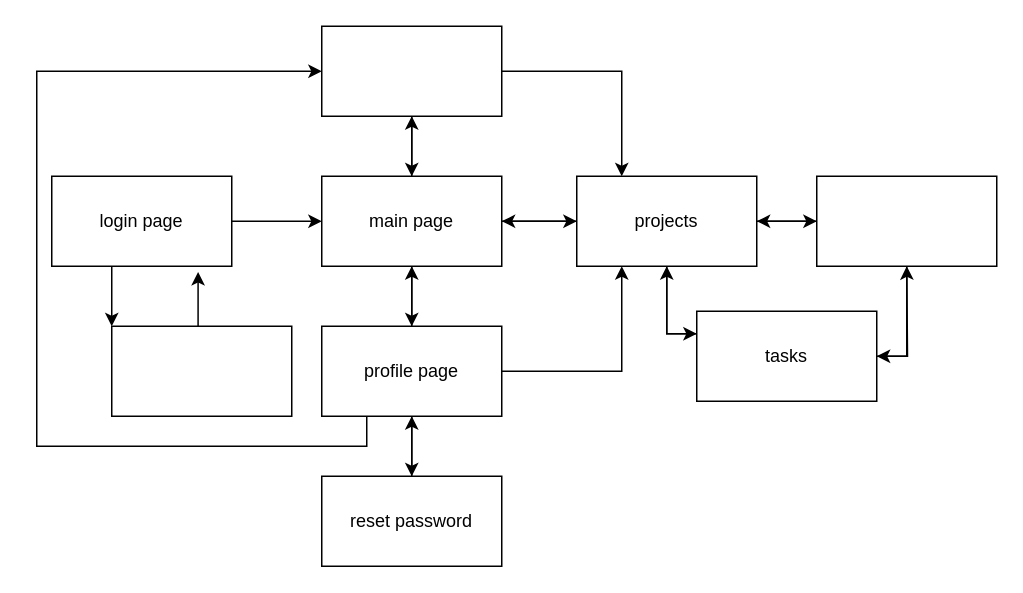
Image size: 1023x593. Some labels were removed from this diagram. The shapes that lost their labels are listed below. From the top down, each one's centre as x and y in pixels, then its label:
the point at 411,70: user page
the point at 906,220: sprints
the point at 201,370: register page
